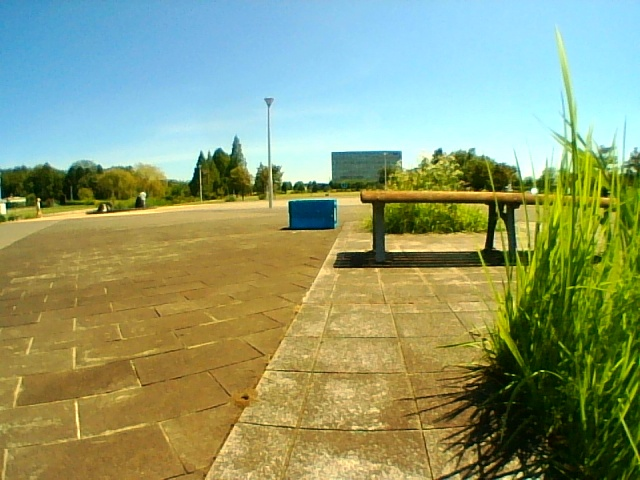blue_box: (289, 200, 337, 229)
tag: (333, 210, 336, 224)
